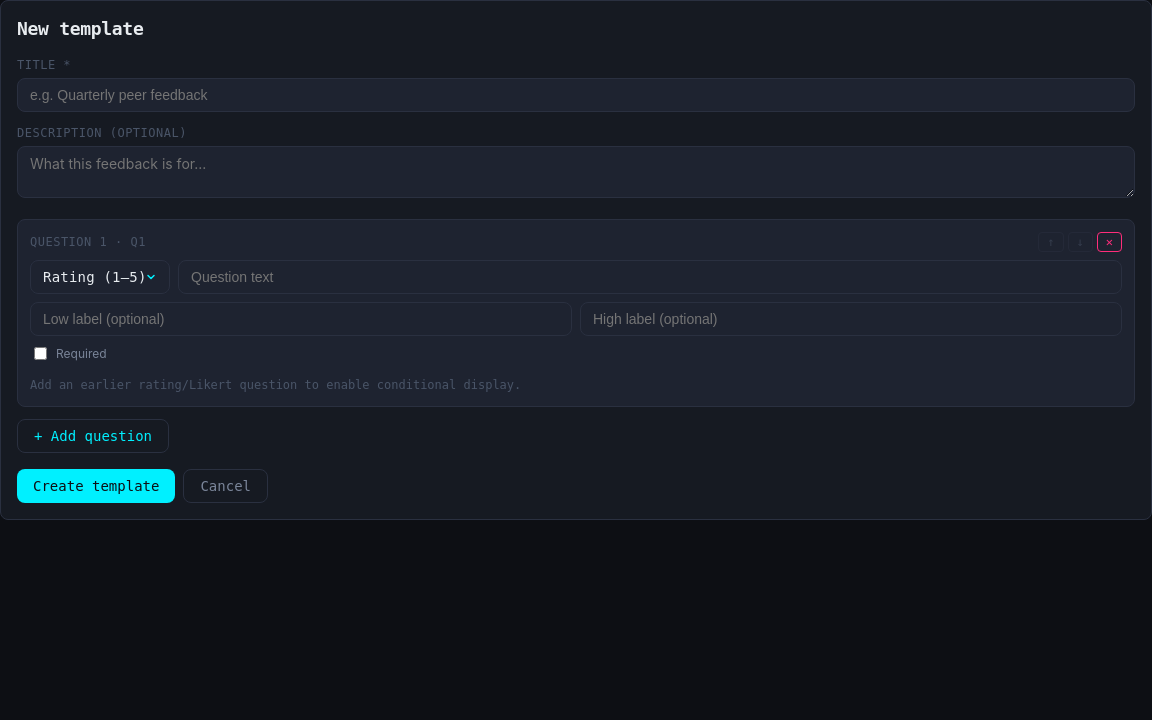
Test: FeedbackTemplateBuilder › blocks save with a validation error when title is missing
Type "Q" into the field with test id "ftb-question-0-text" at (650,277), box [178,260,1122,294]
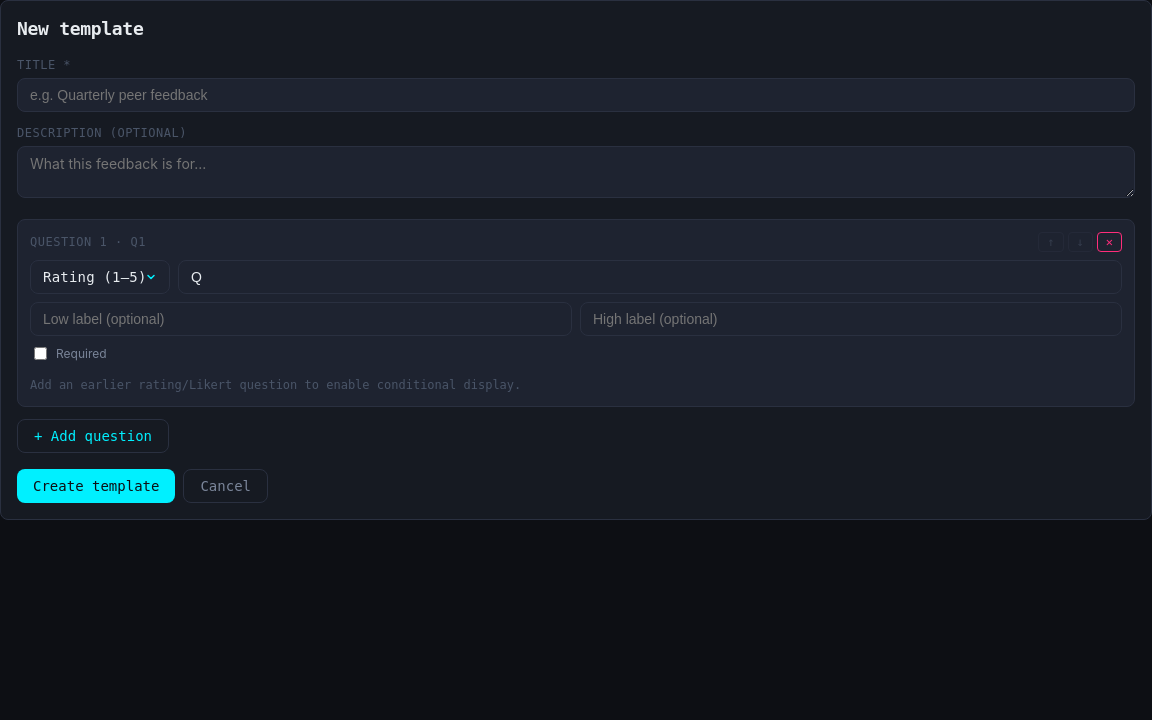
Click the button with test id "ftb-save" at (96,486), box [17,469,175,503]
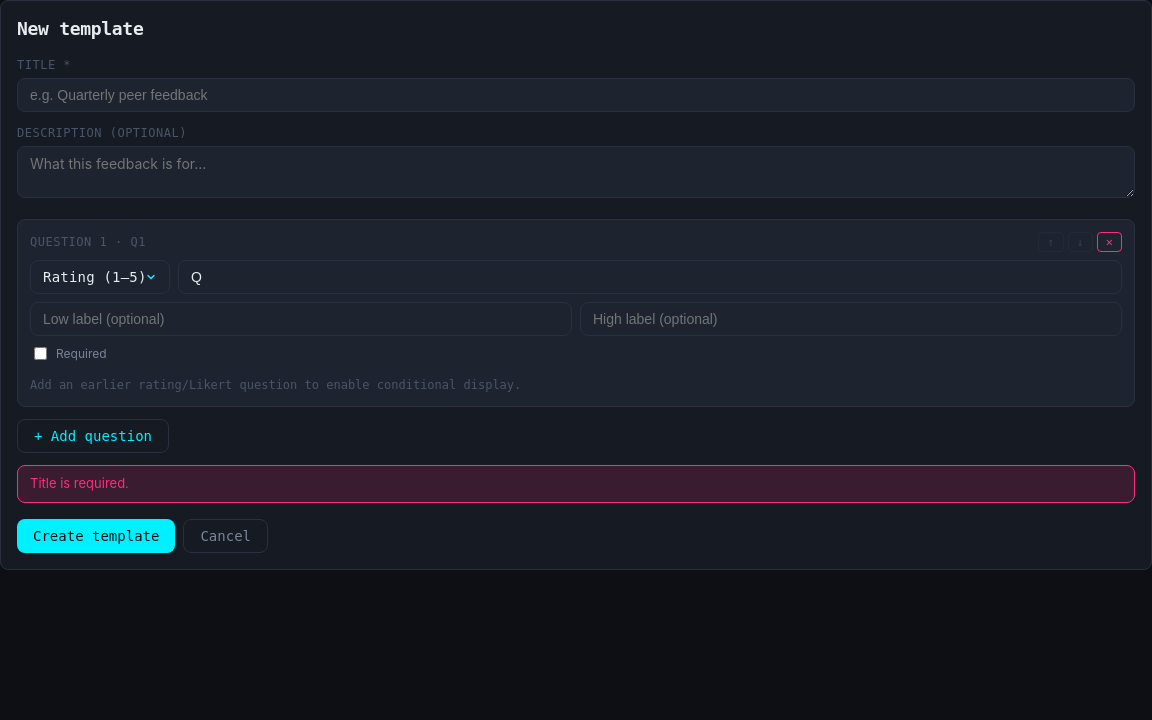
Now the text with test id "ftb-error" shows "Title is required", box [30,475,129,491]
